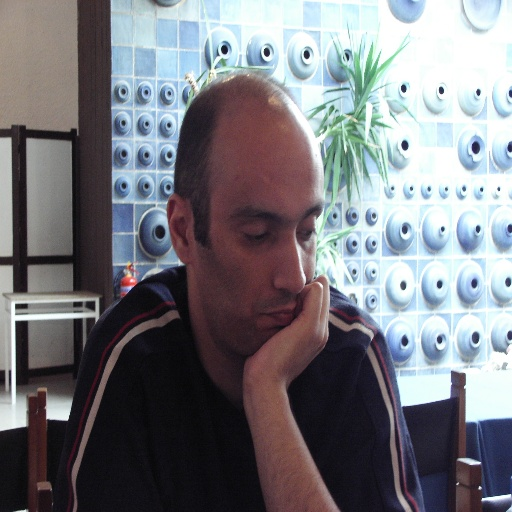hand: (232, 282, 328, 454)
